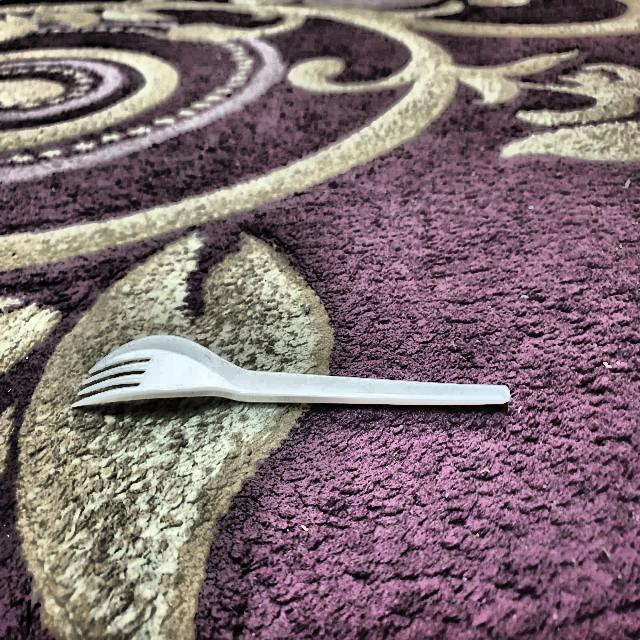plastic utensil: (68, 334, 515, 429)
